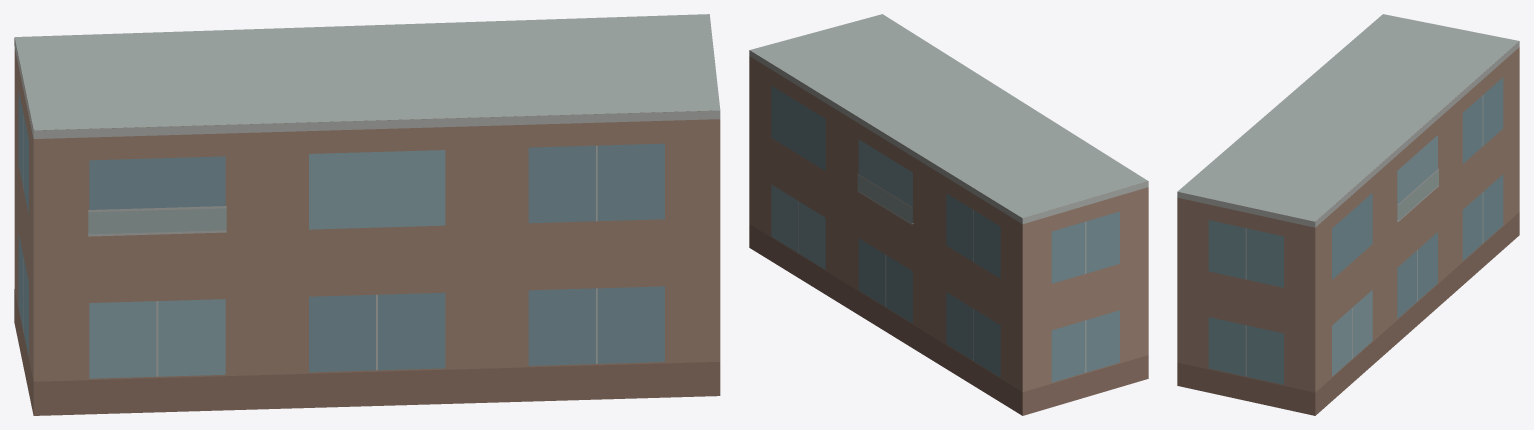
The model's file is survey-upis-32888308.glb.
3 views of the same model, side by side, from view 1: azimuth 30°, elevation 25°; view 2: azimuth 150°, elevation 25°; view 3: azimuth 270°, elevation 25° (orthographic). The views are drawn at different scales.
Parts seen in each view (by area): view 1: survey-upis-32888308.tmp; view 2: survey-upis-32888308.tmp; view 3: survey-upis-32888308.tmp.
Part boxes in pixels (<box>): survey-upis-32888308.tmp: <box>14,14,720,415</box>; survey-upis-32888308.tmp: <box>749,14,1148,415</box>; survey-upis-32888308.tmp: <box>1177,14,1519,415</box>.
Bounding box in the file's own units: 18.37 × 8 × 12.79.
